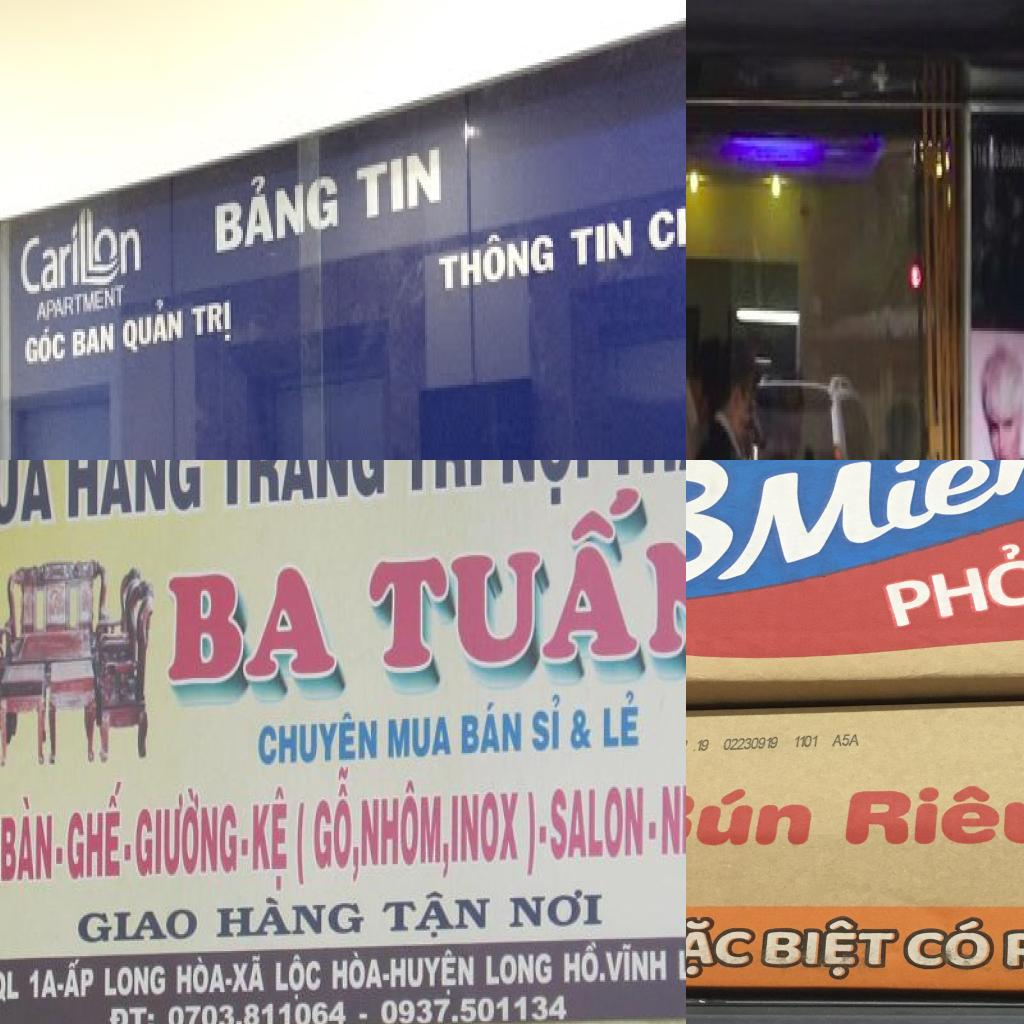text: (362, 480, 686, 695), (748, 576, 965, 852), (161, 555, 362, 698), (779, 813, 969, 942), (896, 594, 1020, 726), (211, 153, 347, 264), (437, 214, 559, 302), (133, 785, 240, 883), (62, 460, 207, 528), (686, 460, 740, 641), (360, 779, 454, 881), (212, 460, 390, 512), (550, 778, 648, 866), (211, 891, 367, 946), (351, 138, 445, 226), (256, 707, 381, 768), (897, 490, 980, 580), (65, 779, 127, 886), (312, 762, 365, 886), (380, 888, 493, 946), (75, 898, 202, 948), (450, 786, 524, 869), (15, 220, 83, 300), (503, 883, 608, 934), (0, 792, 56, 886), (248, 784, 294, 893), (167, 998, 349, 1024), (563, 212, 637, 273), (123, 291, 187, 361), (497, 460, 596, 503), (389, 949, 477, 997), (0, 460, 57, 534), (35, 282, 129, 326), (459, 698, 525, 760), (656, 756, 686, 882), (396, 460, 490, 497), (647, 173, 686, 261), (388, 712, 456, 760), (603, 939, 669, 985), (484, 951, 555, 989), (21, 320, 71, 373), (274, 951, 325, 1002), (187, 296, 239, 346), (602, 692, 644, 753), (102, 963, 169, 1000), (331, 949, 385, 994), (174, 955, 228, 997), (562, 939, 608, 985), (69, 320, 119, 362), (530, 694, 563, 756), (230, 953, 269, 997), (523, 784, 540, 881), (295, 792, 311, 890), (63, 958, 97, 1000), (570, 705, 598, 755), (119, 226, 145, 279), (29, 965, 60, 1002), (107, 1004, 157, 1024), (0, 968, 24, 1004), (732, 859, 746, 889), (538, 820, 552, 847), (1013, 916, 1024, 947), (240, 835, 250, 859), (355, 1010, 371, 1024), (123, 840, 133, 862), (648, 820, 658, 842), (56, 844, 65, 868), (1015, 957, 1024, 980), (752, 946, 762, 964), (1014, 889, 1024, 907), (732, 846, 746, 857), (226, 975, 234, 988), (1017, 994, 1024, 1008), (57, 982, 65, 994), (382, 973, 392, 982)
